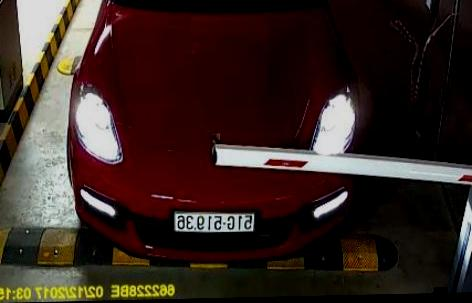License_Plate: (173, 205, 258, 235)
